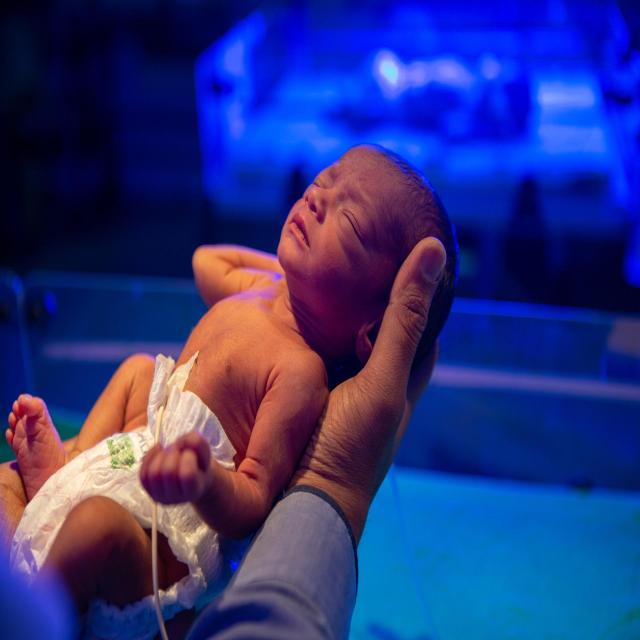child: (5, 137, 463, 604)
